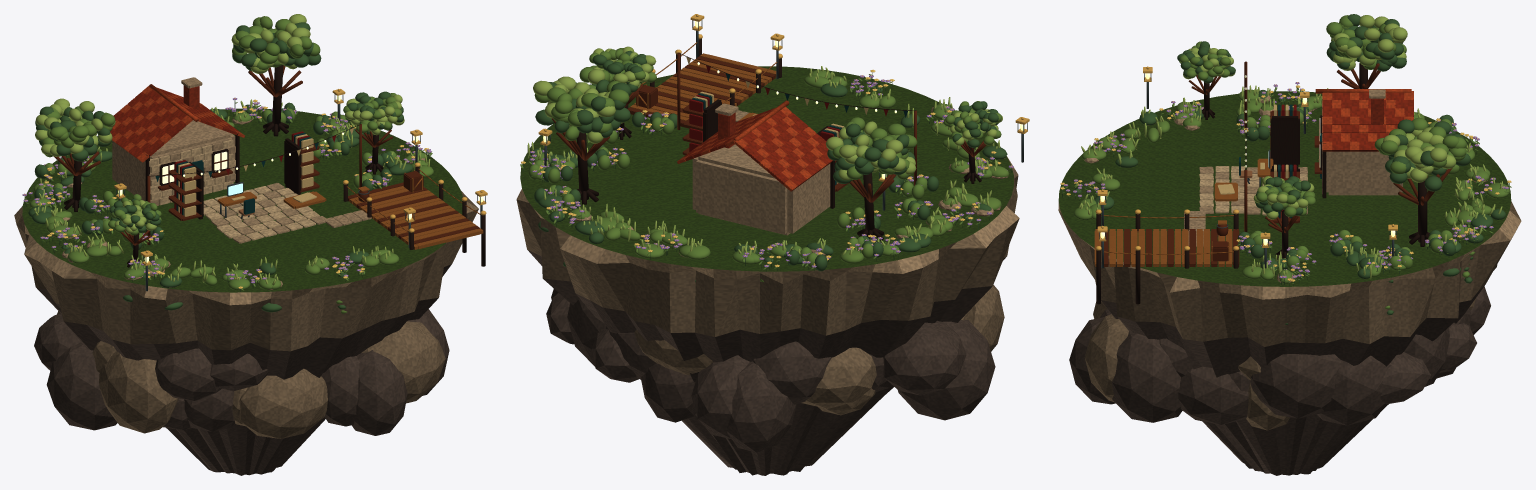
Rendered from learning.glb.
3 views of the same model, side by side, from view 1: azimuth 30°, elevation 25°; view 2: azimuth 150°, elevation 25°; view 3: azimuth 270°, elevation 25° (orthographic). The views are drawn at different scales.
Parts seen in each view (by area): view 1: GEO-learning-rockLight, GEO-learning-rock, GEO-learning-grass, GEO-learning-leaf, GEO-learning-stone, GEO-learning-leafDark, GEO-learning-leafLight, GEO-learning-wood, GEO-learning-darkwood, GEO-learning-stoneLight, GEO-learning-oak, GEO-learning-tile (+8 smaller); view 2: GEO-learning-rock, GEO-learning-grass, GEO-learning-rockLight, GEO-learning-leaf, GEO-learning-stone, GEO-learning-leafDark, GEO-learning-leafLight, GEO-learning-wood, GEO-learning-tile, GEO-learning-oak, GEO-learning-darkwood, GEO-learning-tileLight (+5 smaller); view 3: GEO-learning-rock, GEO-learning-grass, GEO-learning-rockLight, GEO-learning-leaf, GEO-learning-leafDark, GEO-learning-stone, GEO-learning-leafLight, GEO-learning-darkwood, GEO-learning-wood, GEO-learning-oak, GEO-learning-tile, GEO-learning-tileLight (+5 smaller).
Boxes of the visible parts, <box> form: GEO-learning-rockLight: <box>16,209,478,438</box>; GEO-learning-rock: <box>34,264,451,475</box>; GEO-learning-grass: <box>22,108,462,292</box>; GEO-learning-leaf: <box>24,16,433,313</box>; GEO-learning-stone: <box>14,77,478,305</box>; GEO-learning-leafDark: <box>24,22,429,312</box>; GEO-learning-leafLight: <box>34,14,430,285</box>; GEO-learning-wood: <box>53,65,479,245</box>; GEO-learning-darkwood: <box>64,65,485,267</box>; GEO-learning-stoneLight: <box>149,139,319,240</box>; GEO-learning-oak: <box>217,168,483,249</box>; GEO-learning-tile: <box>110,88,239,158</box>; GEO-learning-rock: <box>528,250,1006,475</box>; GEO-learning-grass: <box>520,66,1013,271</box>; GEO-learning-rockLight: <box>516,175,1019,415</box>; GEO-learning-leaf: <box>520,48,1011,282</box>; GEO-learning-stone: <box>517,103,1019,283</box>; GEO-learning-leafDark: <box>523,50,1011,282</box>; GEO-learning-leafLight: <box>527,46,1002,257</box>; GEO-learning-wood: <box>551,52,986,202</box>; GEO-learning-tile: <box>683,108,833,187</box>; GEO-learning-oak: <box>630,42,777,120</box>; GEO-learning-darkwood: <box>576,38,981,240</box>; GEO-learning-tileLight: <box>677,100,826,191</box>; GEO-learning-rock: <box>1069,267,1496,475</box>; GEO-learning-grass: <box>1058,91,1511,286</box>; GEO-learning-rockLight: <box>1059,211,1512,430</box>; GEO-learning-leaf: <box>1060,15,1511,309</box>; GEO-learning-leafDark: <box>1062,14,1509,324</box>; GEO-learning-stone: <box>1058,89,1521,299</box>; GEO-learning-leafLight: <box>1078,15,1502,279</box>; GEO-learning-darkwood: <box>1096,62,1429,304</box>; GEO-learning-wood: <box>1104,61,1452,266</box>; GEO-learning-oak: <box>1094,158,1273,266</box>; GEO-learning-tile: <box>1322,92,1413,151</box>; GEO-learning-tileLight: <box>1315,89,1413,151</box>.
Bounding box in the file's own units: 24.63 × 21.06 × 23.59.
24 materials, 14 textured.
